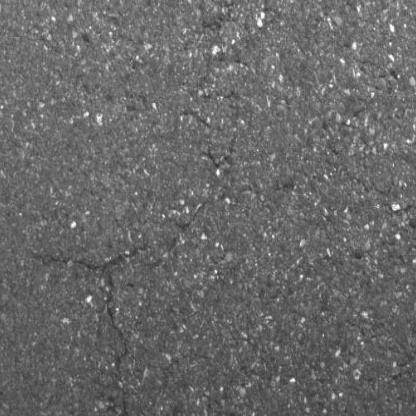Cracks: (36, 243, 153, 416), (149, 204, 206, 266)
